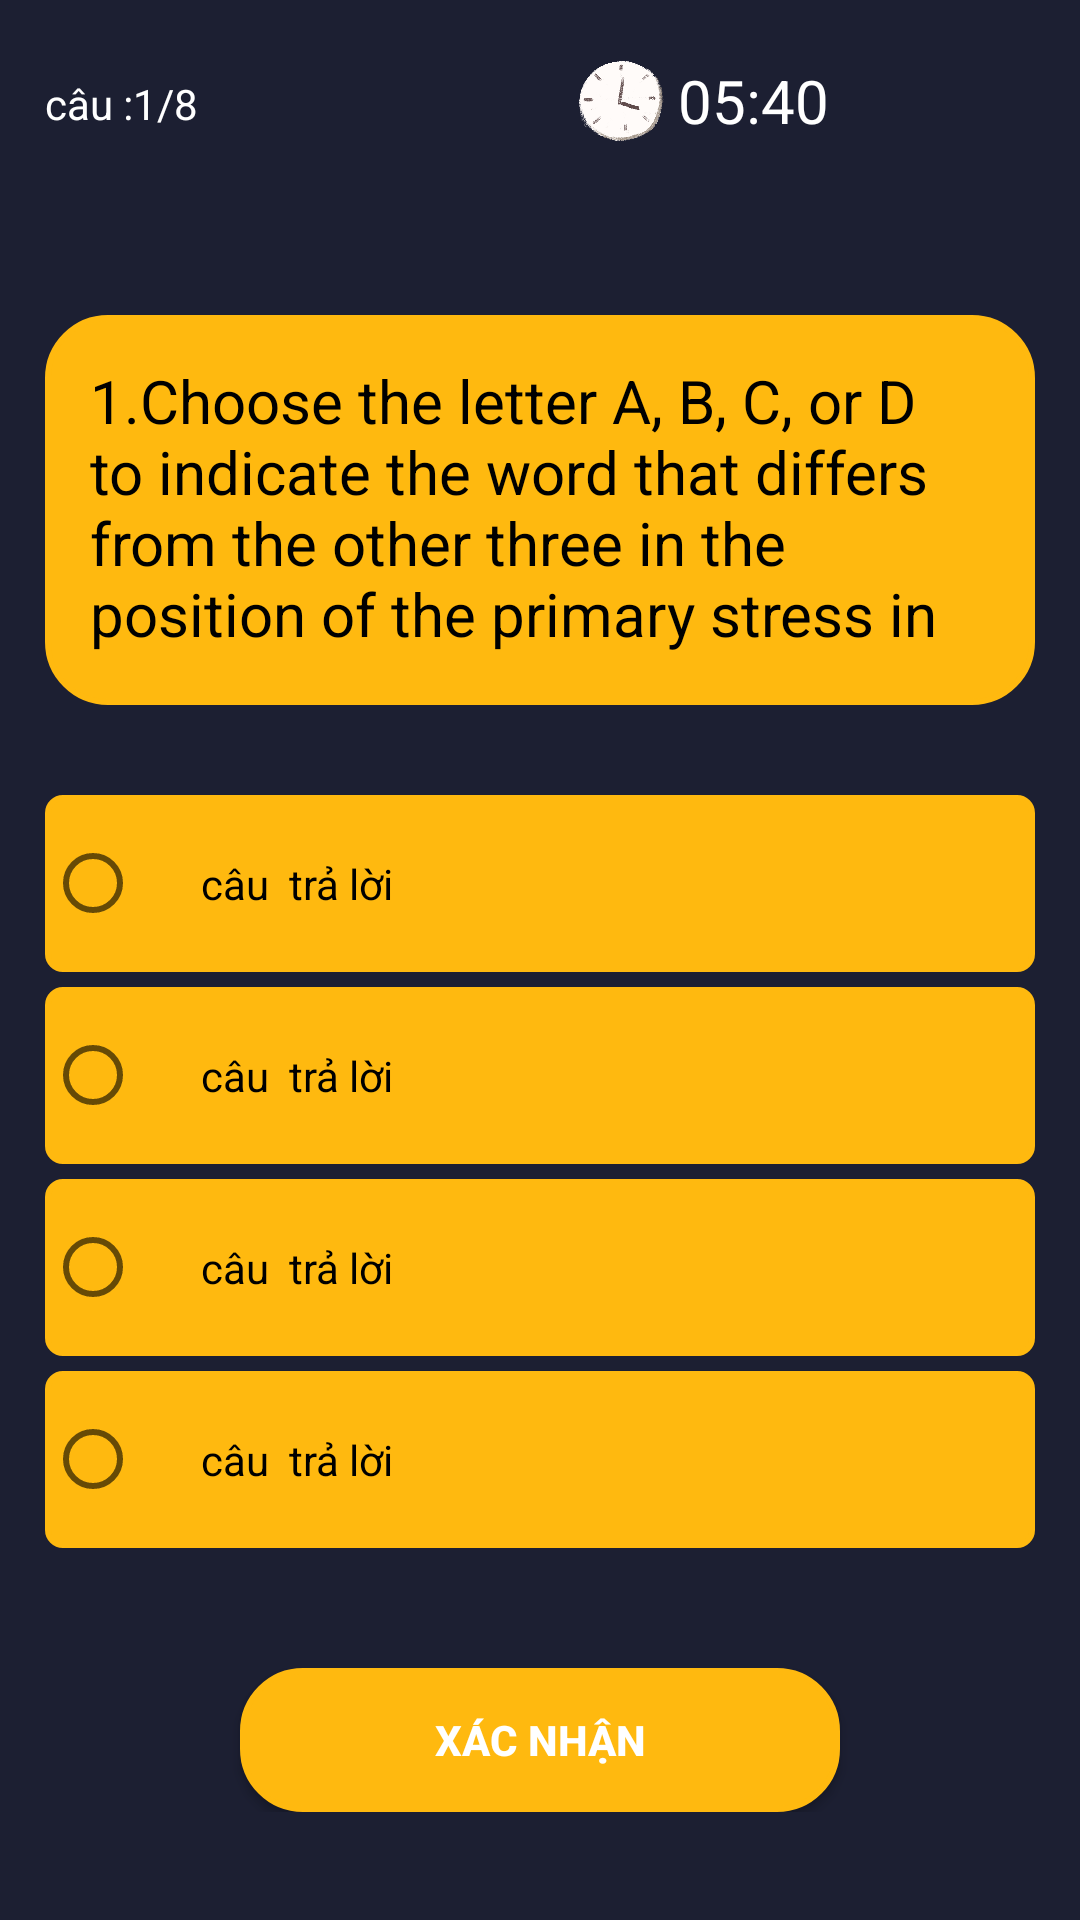

Icons on this 1080 × 1920 Android screen, each with its box as bbox=[x1, y1, x2, y2]:
dongho: bbox=[579, 61, 663, 141]
